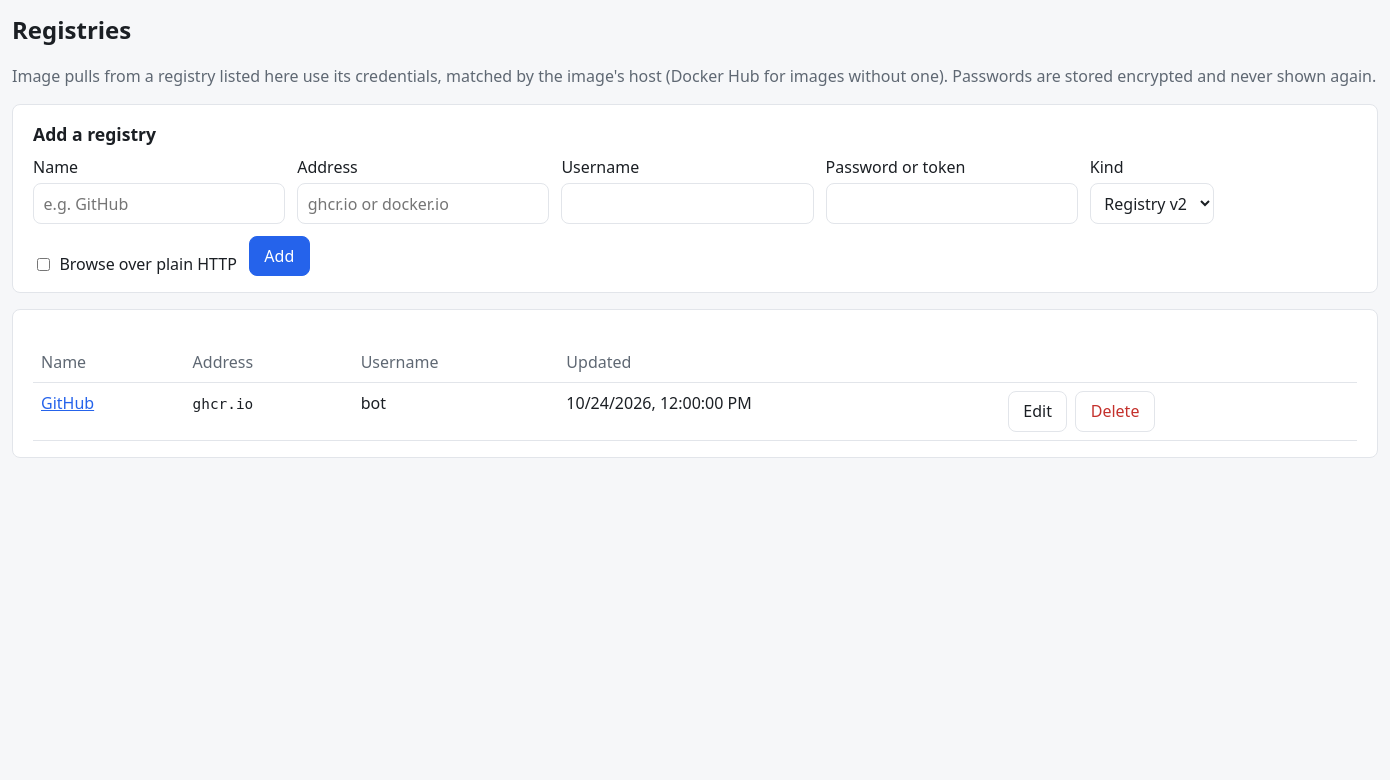
Test case: RegistriesView › edits a registry without sending an unchanged password
Step 1. Click the button "Edit" → [1038, 411], box [1008, 391, 1067, 432]
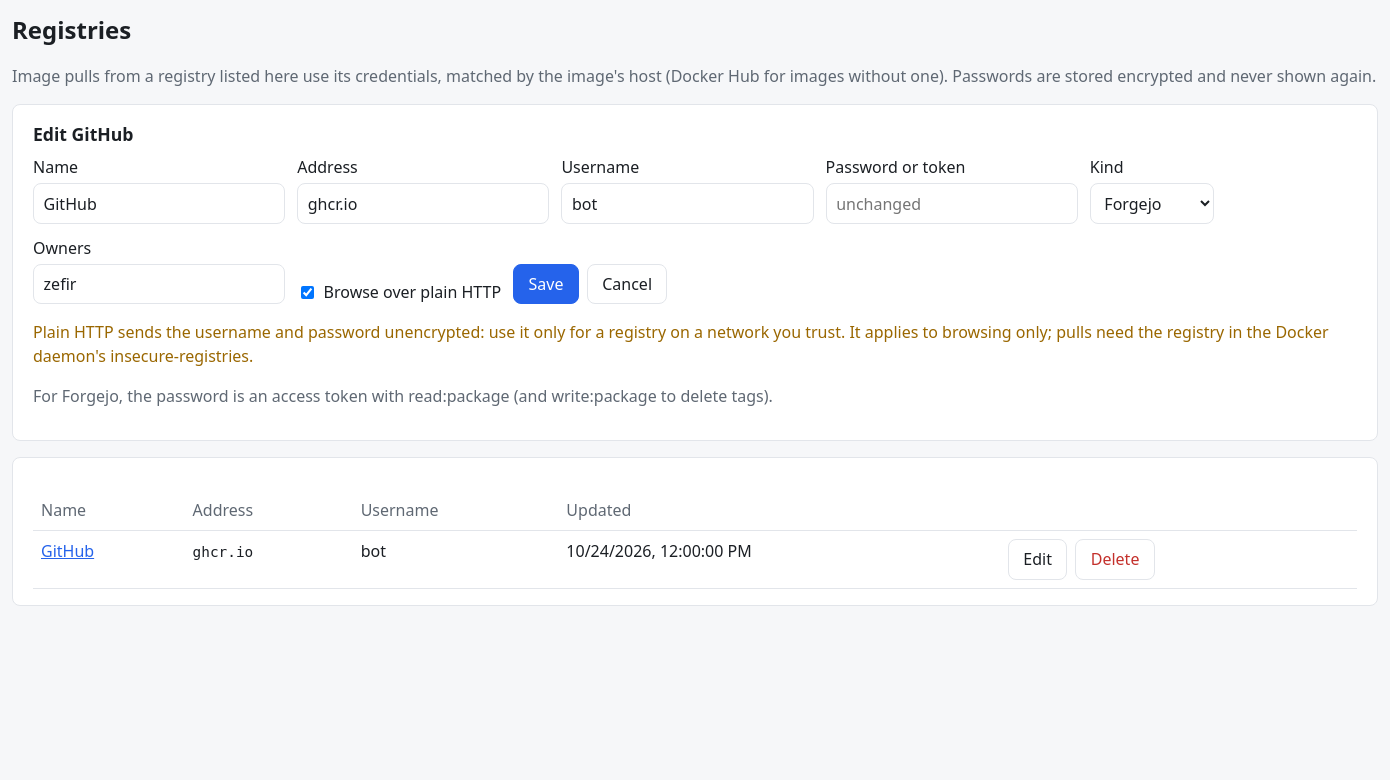
Now the text "Edit GitHub" is shown, box [33, 122, 134, 146]
Now the dropdown named "kind" shows "Forgejo", box [1090, 183, 1214, 224]
Now the field named "owners" holds "zefir", box [33, 264, 285, 304]
Step 2. Replace the text in the field named "name" with "GitHub CR" → [159, 204], box [33, 183, 285, 224]
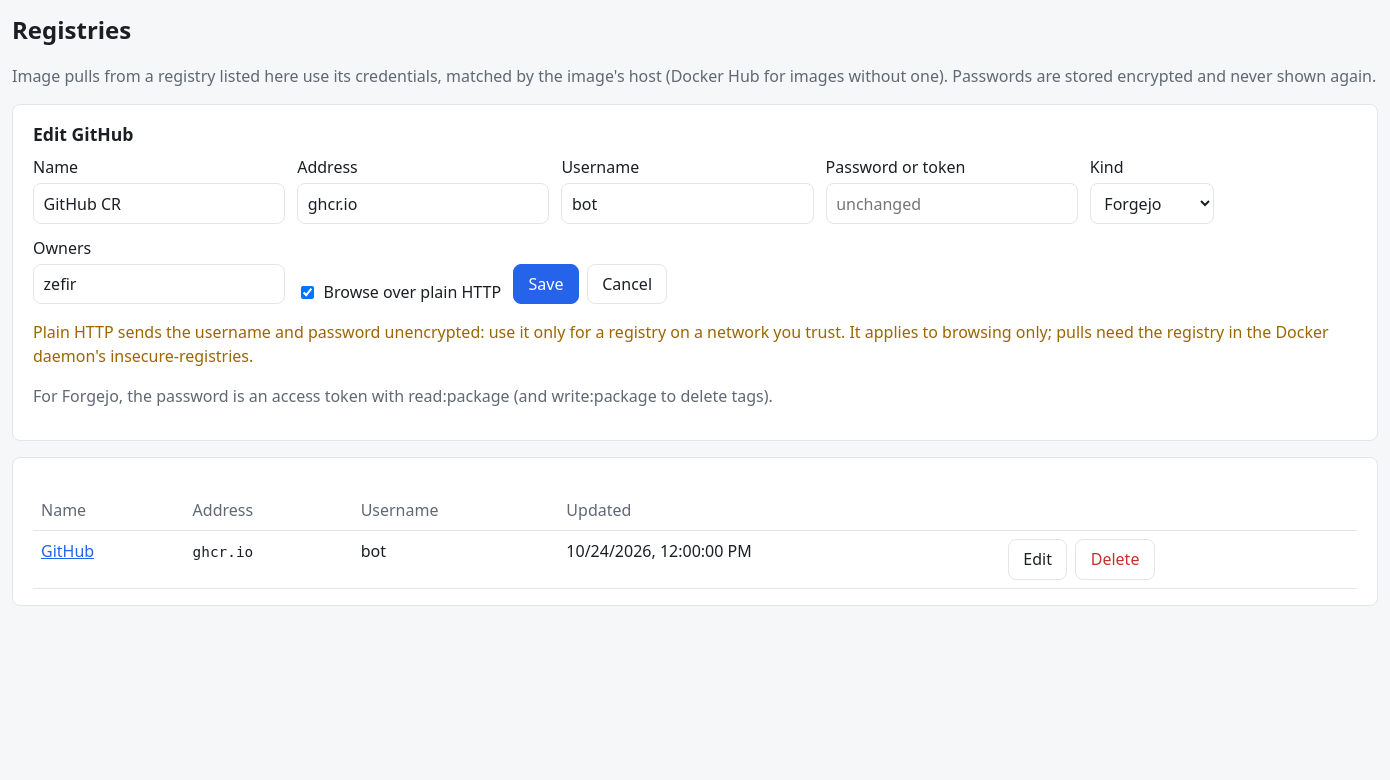
Step 3. Replace the text in the field named "owners" with "zefir, team" → [159, 284], box [33, 264, 285, 304]
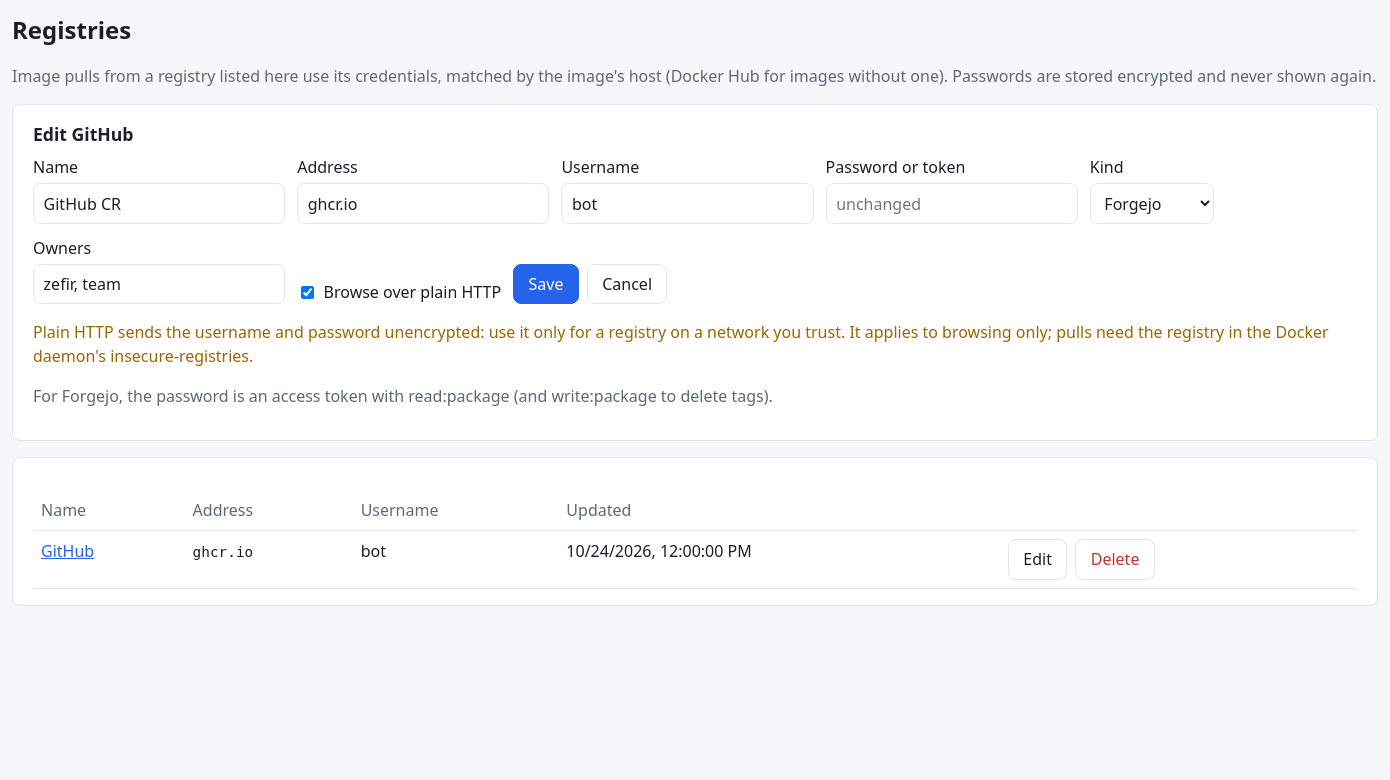
Step 4. Submit the form, box [33, 155, 1357, 304]
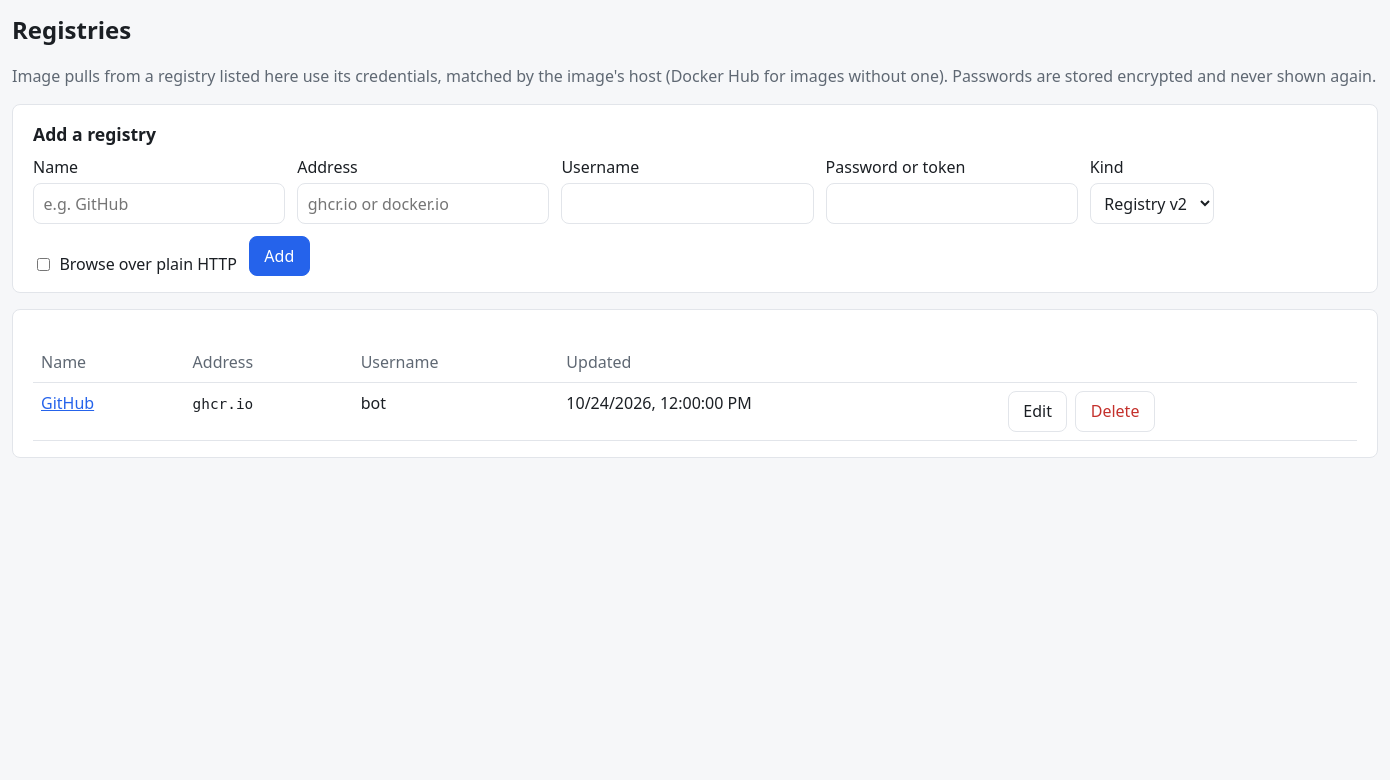
Now the text "Add a registry" is shown, box [33, 122, 156, 146]
